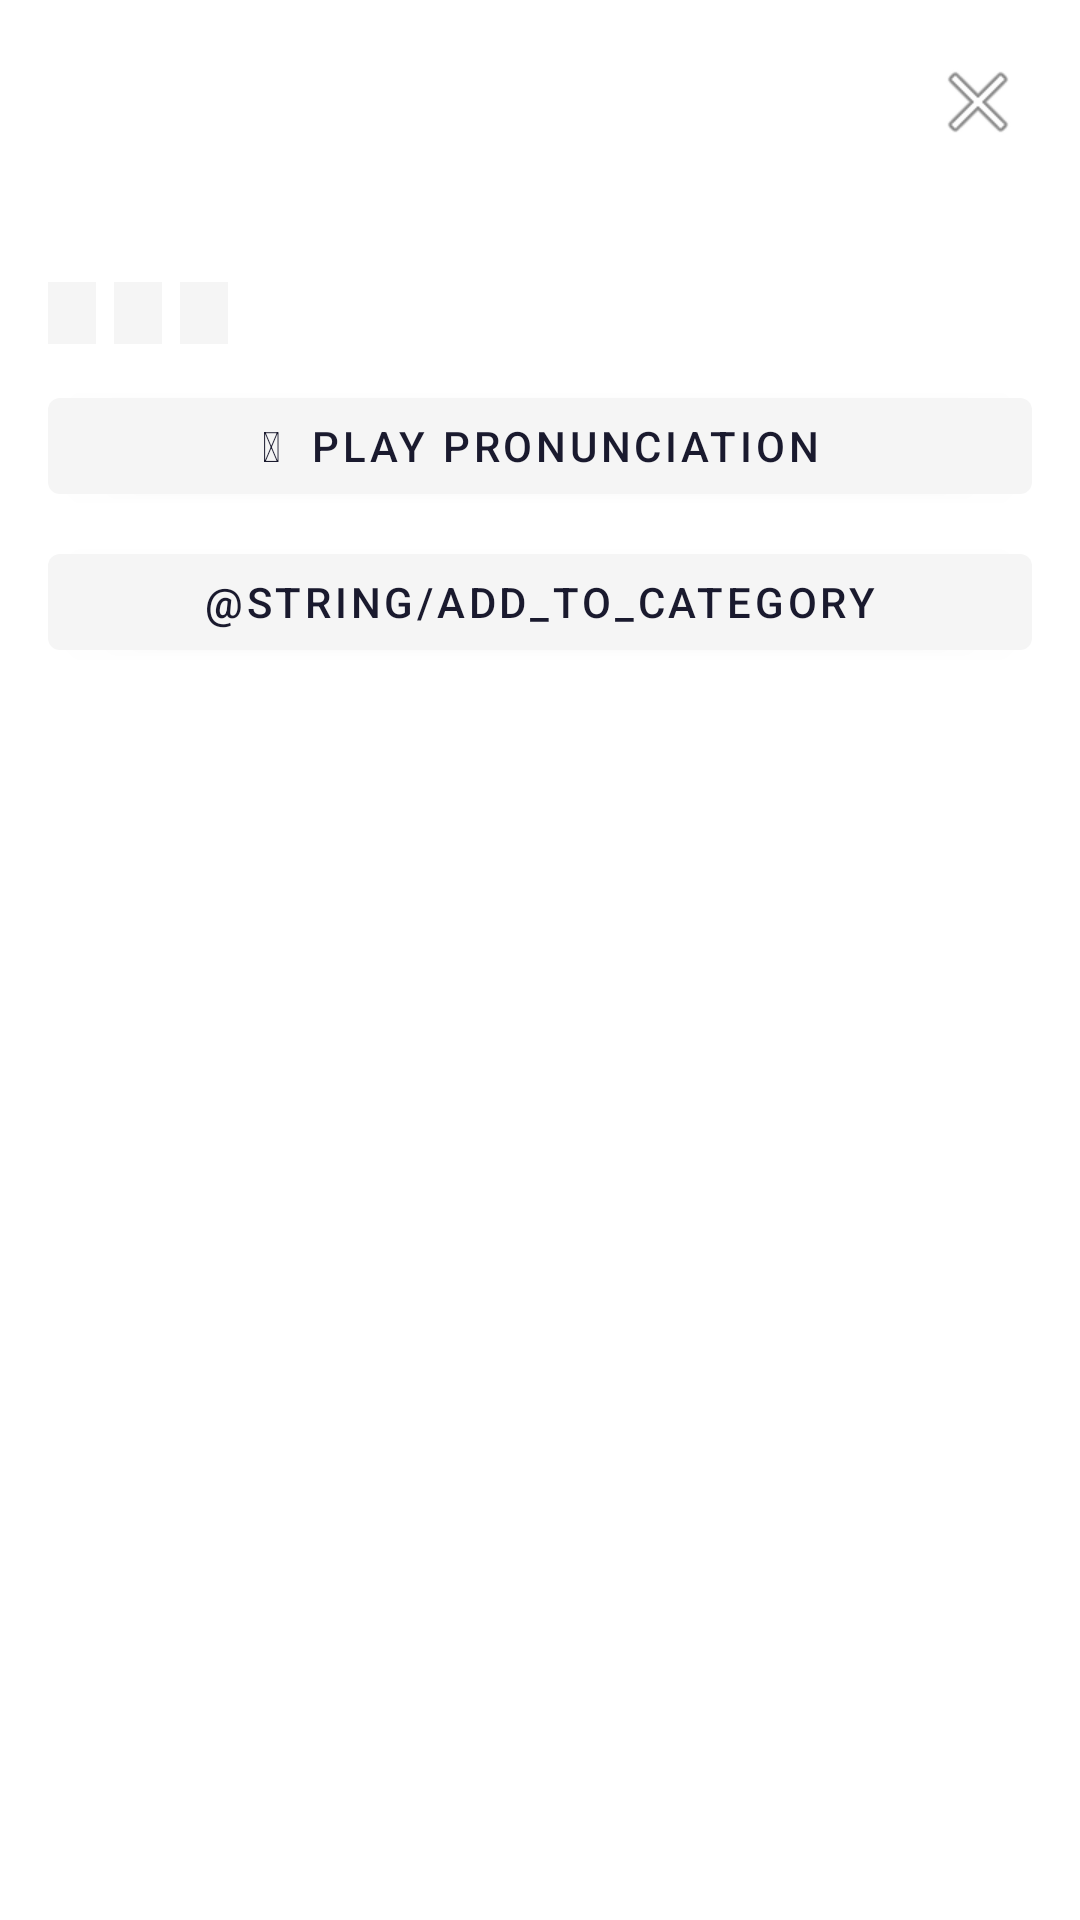

Icon click points for this 1080 x 1920 phone screenshot, format [x,y]:
Close: [978,102]
